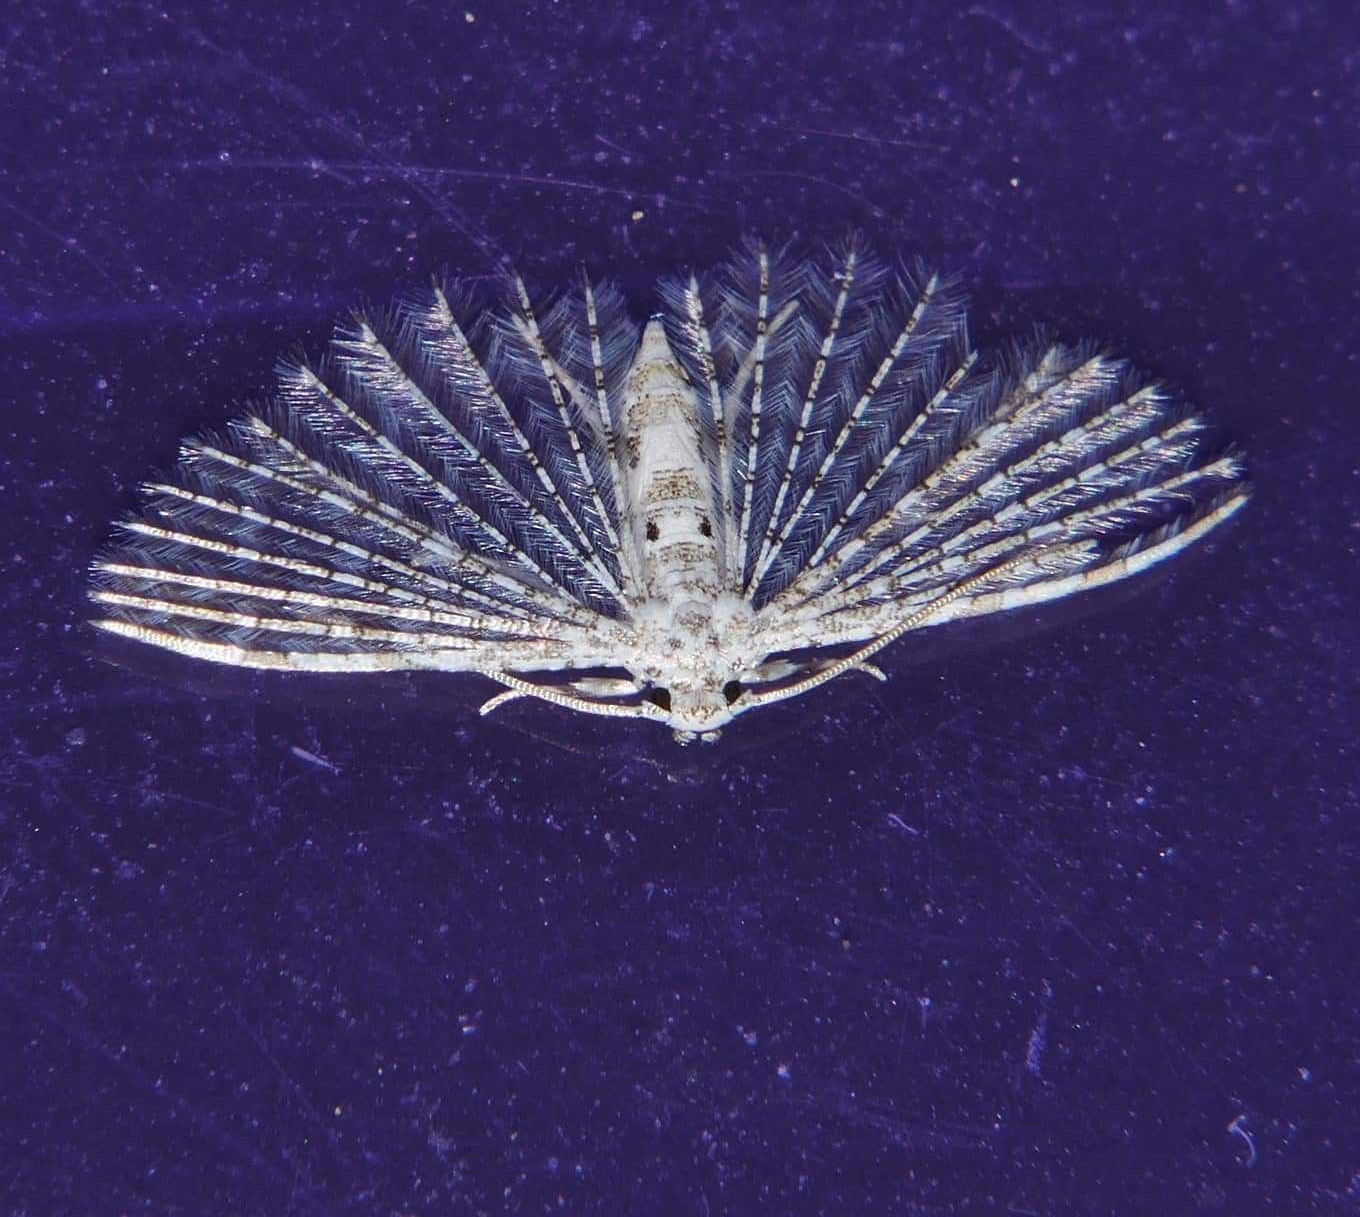Alucitidae: (74, 221, 1267, 757)
moth: (76, 223, 1270, 759)
